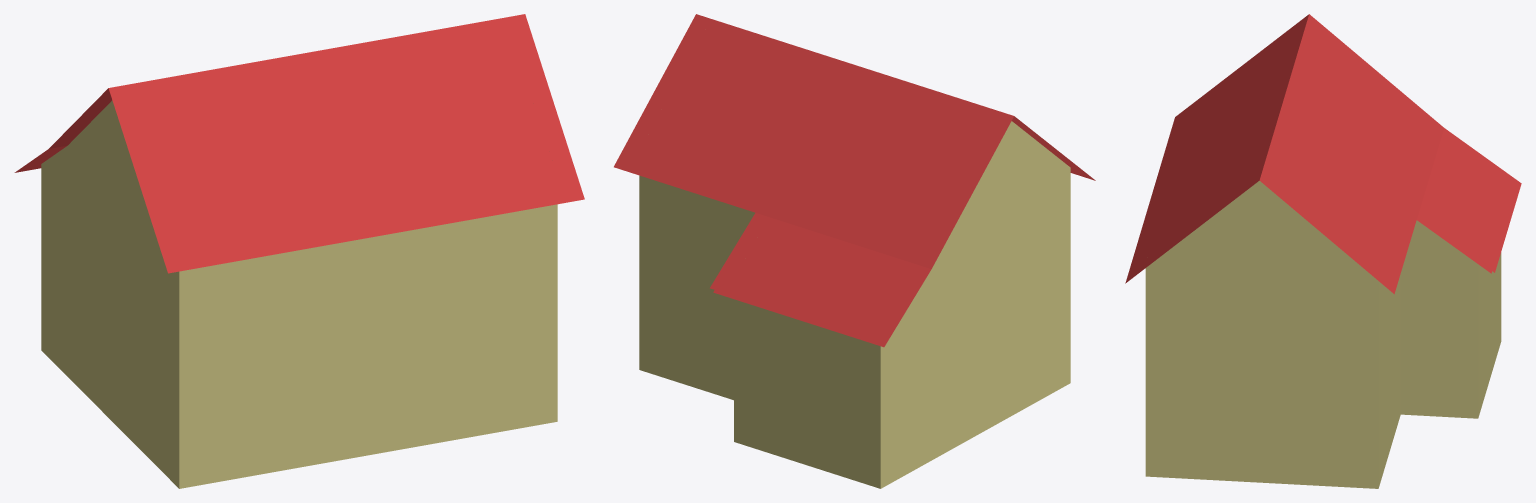
3 views of the same model, side by side, from view 1: azimuth 30°, elevation 25°; view 2: azimuth 150°, elevation 25°; view 3: azimuth 270°, elevation 25° (orthographic). The views are drawn at different scales.
Size of the model in its own units: 17.51 by 16.21 by 13.98.
